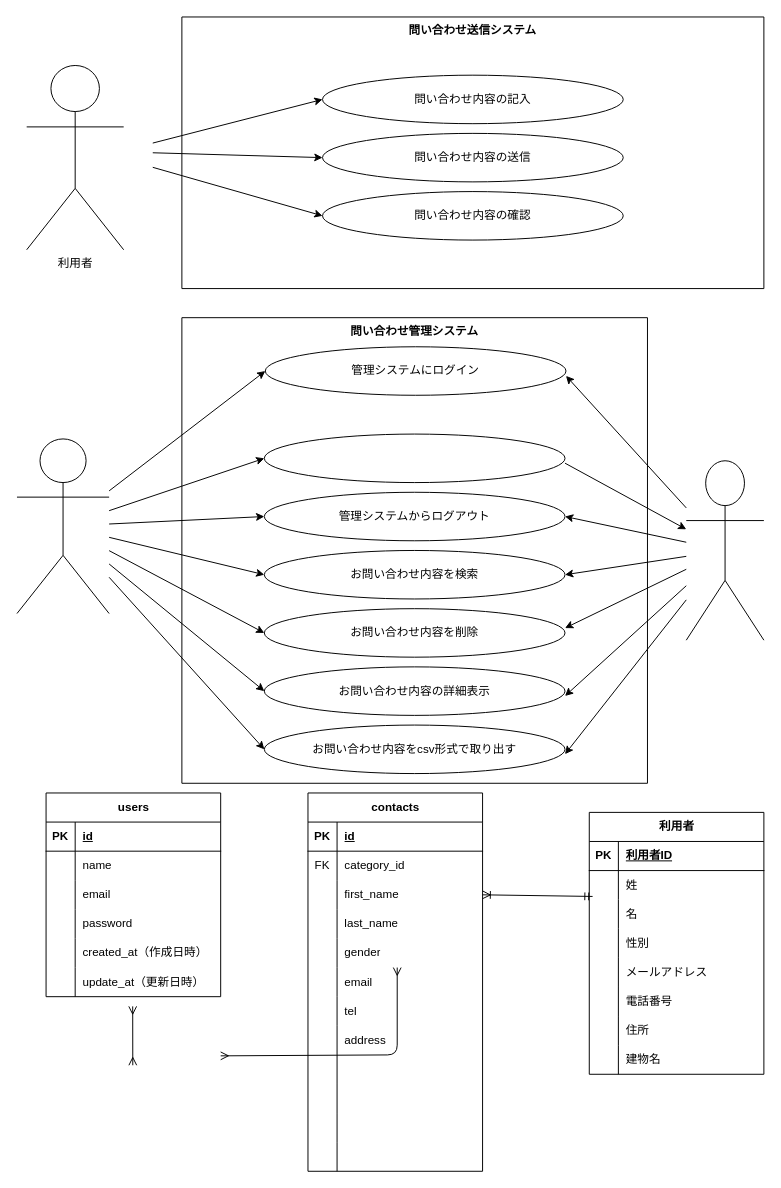
The diagram is 781 pixels wide and 1188 high, and some of its shapes have lost their labels. The shapes that lost their labels are listed below. From the top down, each one's centre as x and y in pixels, then its label:
(x=414, y=458): 新規ユーザーの作成・登録
(x=62, y=526): 管理者
(x=724, y=550): 新規管理者
